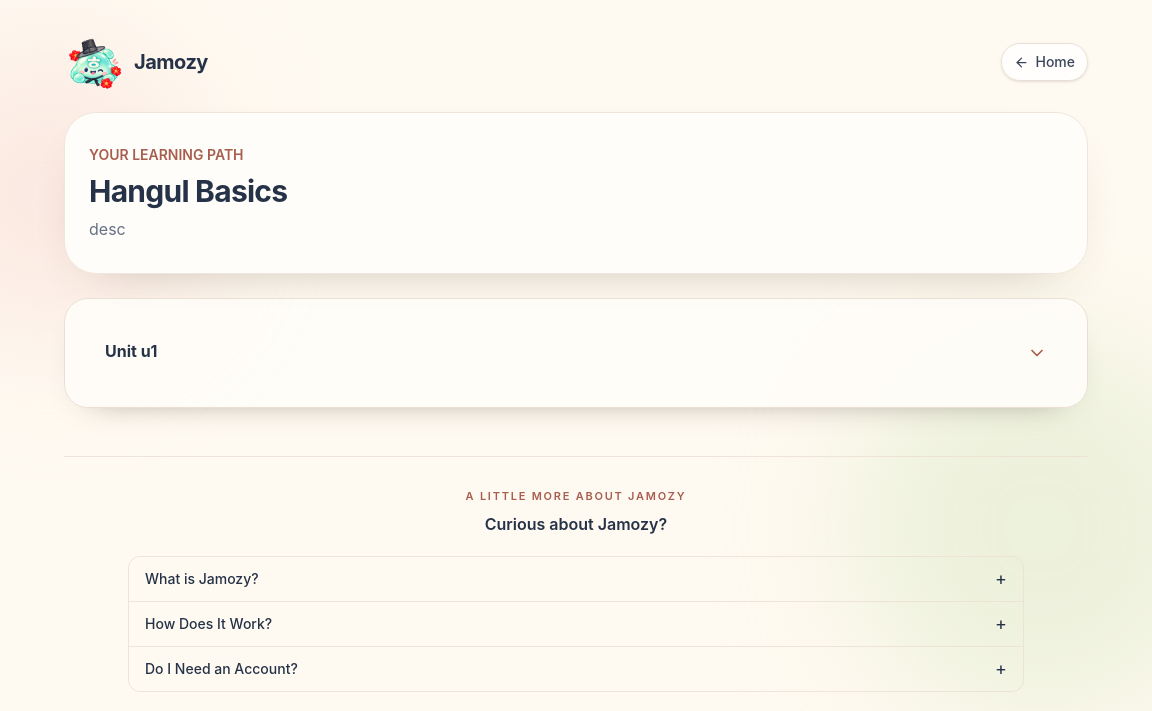
CourseMapPage › shows an empty-state message for a unit with no lessons, without crashing
Click the button "Unit u1" at x=131, y=351, box x1=85 y1=319 x2=1067 y2=387
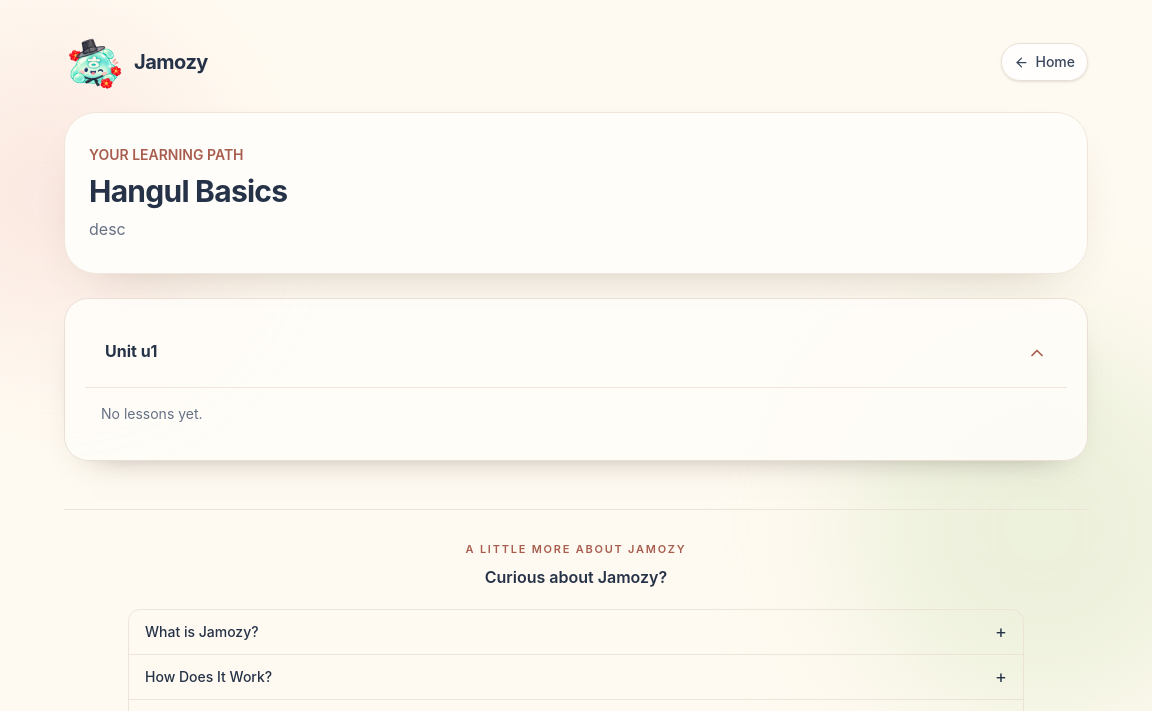
Expected: the text "No lessons yet." is shown, x1=101 y1=405 x2=203 y2=422
